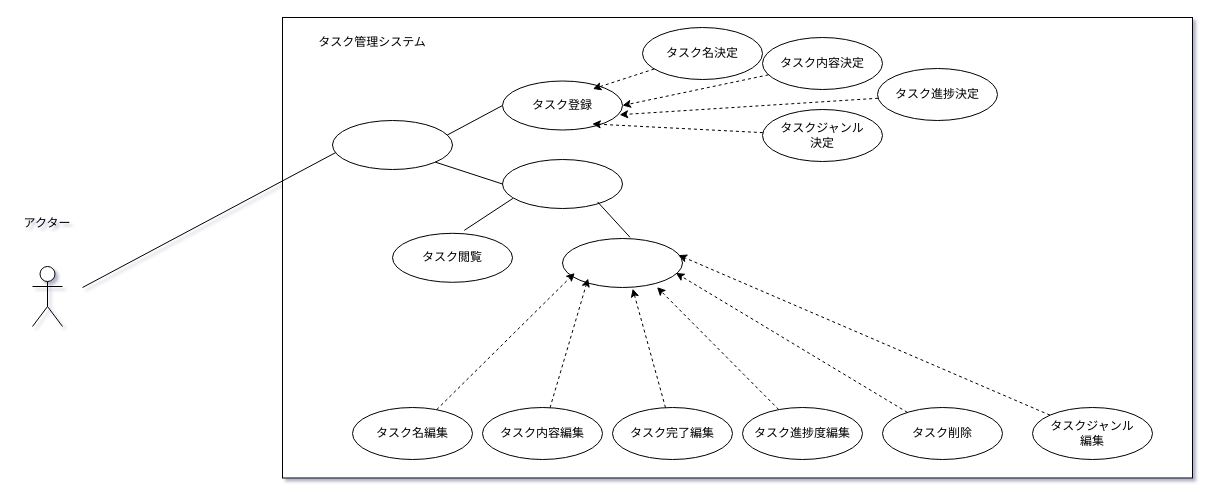
Some shapes in this 1216 by 502 pixel diagram are drawn without their labels. Here are the shapes that lost their labels. From the top down, the box of each, then its label:
(332, 120, 452, 170): ログイン
(502, 158, 622, 208): タスク検索
(562, 238, 682, 288): タスク編集
(32, 266, 62, 326): ユーザ
